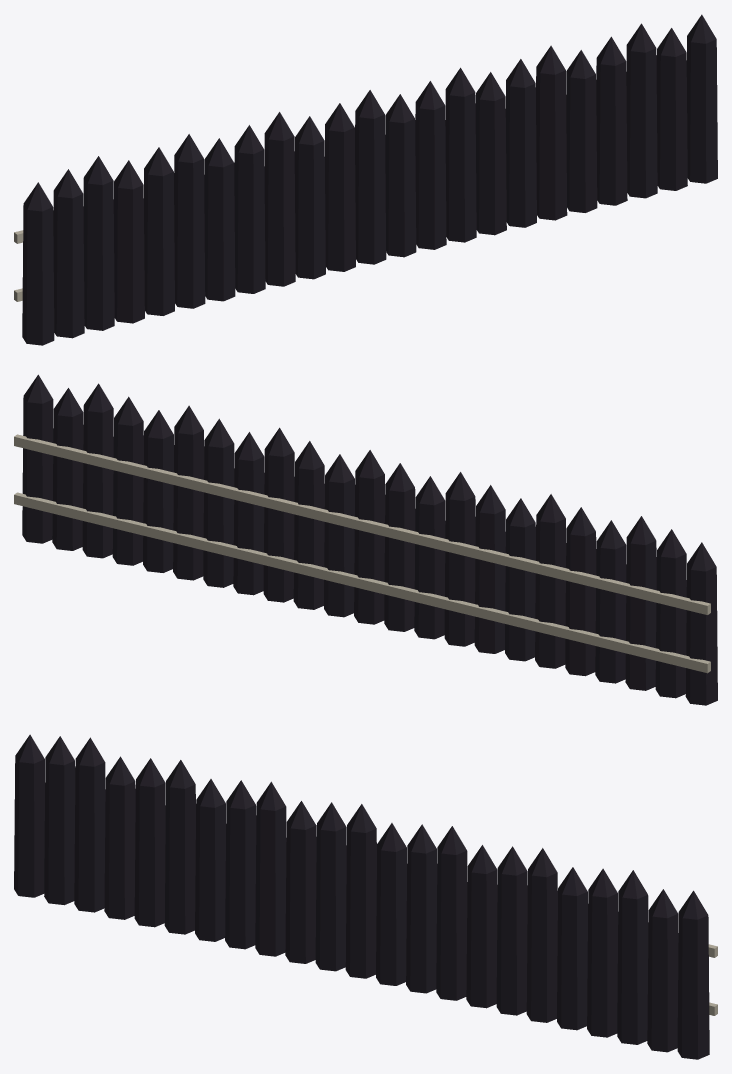
The model's file is horde_wall_broken.glb.
3 views of the same model, one above another, from view 1: azimuth 30°, elevation 25°; view 2: azimuth 150°, elevation 25°; view 3: azimuth 330°, elevation 25° (orthographic).
Parts seen in each view (by area): view 1: horde_wall_piece6, horde_wall_piece5, horde_wall_piece10, horde_wall_piece11, horde_wall_piece3, horde_wall_piece1, horde_wall_piece2, horde_wall_piece8, horde_wall_piece7, horde_wall_piece12, horde_wall_piece0, horde_wall_piece13 (+2 smaller); view 2: horde_wall_piece6, horde_wall_piece3, horde_wall_piece8, horde_wall_piece5, horde_wall_piece9, horde_wall_piece7, horde_wall_piece4, horde_wall_piece2, horde_wall_piece11, horde_wall_piece1, horde_wall_piece13, horde_wall_piece10 (+1 smaller); view 3: horde_wall_piece6, horde_wall_piece5, horde_wall_piece10, horde_wall_piece3, horde_wall_piece11, horde_wall_piece1, horde_wall_piece2, horde_wall_piece8, horde_wall_piece7, horde_wall_piece12, horde_wall_piece0, horde_wall_piece13 (+2 smaller).
Boxes of the visible parts, x1,y1,x2,y2 form: horde_wall_piece6: (14, 156, 144, 345); horde_wall_piece5: (590, 14, 717, 210); horde_wall_piece10: (390, 81, 498, 249); horde_wall_piece11: (140, 129, 264, 275); horde_wall_piece3: (505, 35, 633, 226); horde_wall_piece1: (506, 23, 707, 155); horde_wall_piece2: (246, 112, 358, 278); horde_wall_piece8: (415, 67, 526, 234); horde_wall_piece7: (305, 81, 430, 234); horde_wall_piece12: (337, 135, 419, 270); horde_wall_piece0: (161, 190, 271, 315); horde_wall_piece13: (247, 170, 314, 286); horde_wall_piece6: (597, 516, 717, 705); horde_wall_piece3: (86, 394, 227, 586); horde_wall_piece8: (211, 427, 324, 608); horde_wall_piece5: (14, 374, 142, 564); horde_wall_piece9: (448, 573, 604, 677); horde_wall_piece7: (307, 441, 435, 607); horde_wall_piece4: (411, 505, 580, 618); horde_wall_piece2: (356, 472, 494, 630); horde_wall_piece11: (476, 489, 609, 609); horde_wall_piece1: (90, 383, 234, 476); horde_wall_piece13: (394, 529, 475, 645); horde_wall_piece10: (288, 444, 327, 609); horde_wall_piece6: (14, 734, 134, 919); horde_wall_piece5: (568, 885, 717, 1059); horde_wall_piece10: (377, 825, 475, 1006); horde_wall_piece3: (499, 887, 618, 1029); horde_wall_piece11: (122, 758, 252, 885); horde_wall_piece1: (497, 846, 685, 942); horde_wall_piece2: (229, 780, 345, 969); horde_wall_piece8: (425, 826, 502, 1013); horde_wall_piece7: (288, 801, 422, 939); horde_wall_piece12: (318, 853, 406, 985); horde_wall_piece0: (138, 840, 256, 949); horde_wall_piece13: (228, 825, 315, 962).
Size of the model in its own units: 6.25 by 1.45 by 0.2706.
